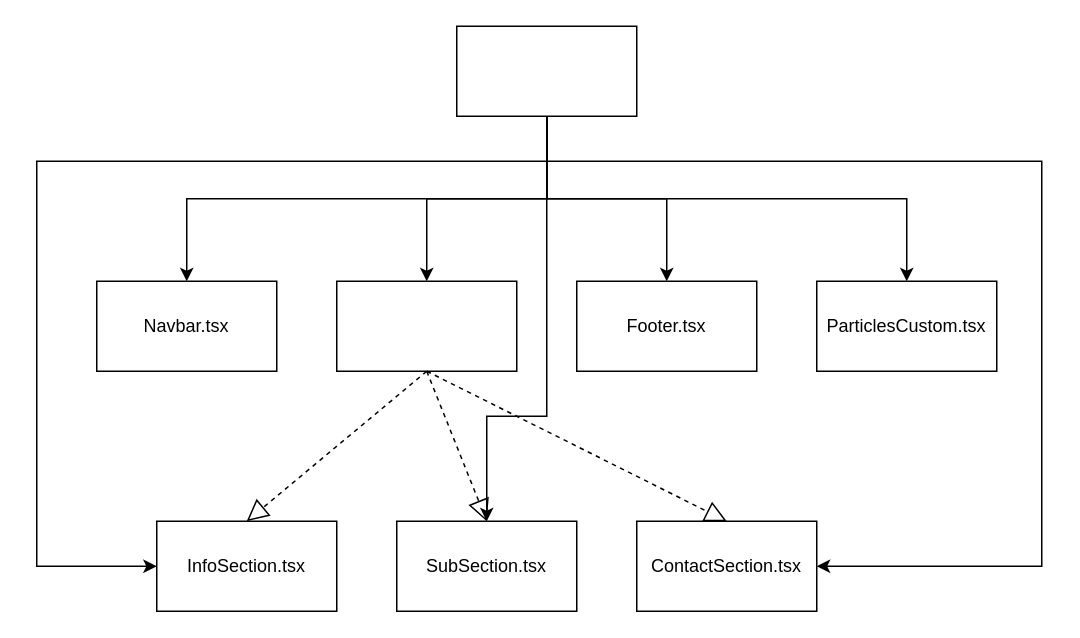
Image size: 1080x638. Some labels were removed from this diagram. The shapes that lost their labels are listed below. From the top down, each one's centre as x and y in pixels, then its label:
At pixel 546 70: "App.tsx".
At pixel 426 325: "FullScreenSection.tsx".
